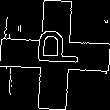P_W: (29, 35, 81, 75)
